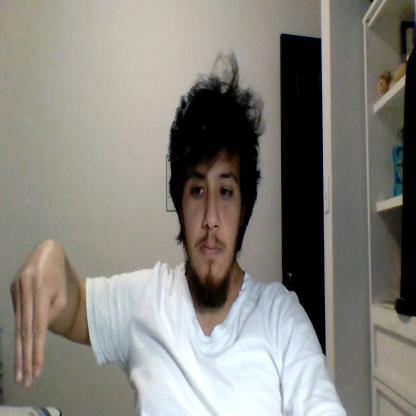M: (10, 239, 67, 386)
